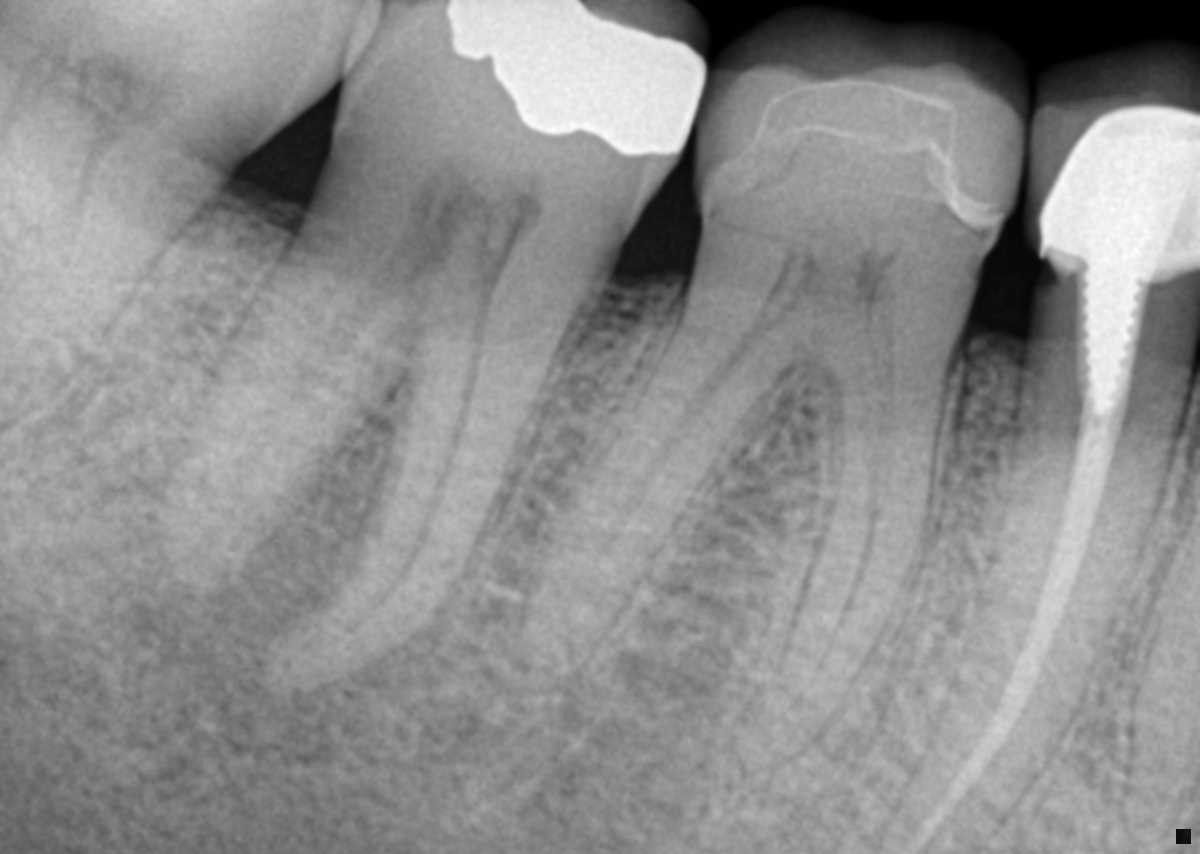Distal Canal: (564, 346, 754, 628), (228, 275, 391, 496)
Distal Root: (524, 297, 779, 674), (164, 226, 420, 590)
Main Root: (879, 356, 1193, 854), (0, 77, 198, 425), (1121, 503, 1200, 850)
Mesial Canal: (306, 317, 484, 663), (776, 370, 894, 725)
Mesial Root: (266, 313, 551, 691), (733, 361, 947, 771)
Root Canal Filling: (904, 402, 1129, 854)
decay: (1036, 257, 1057, 292)
